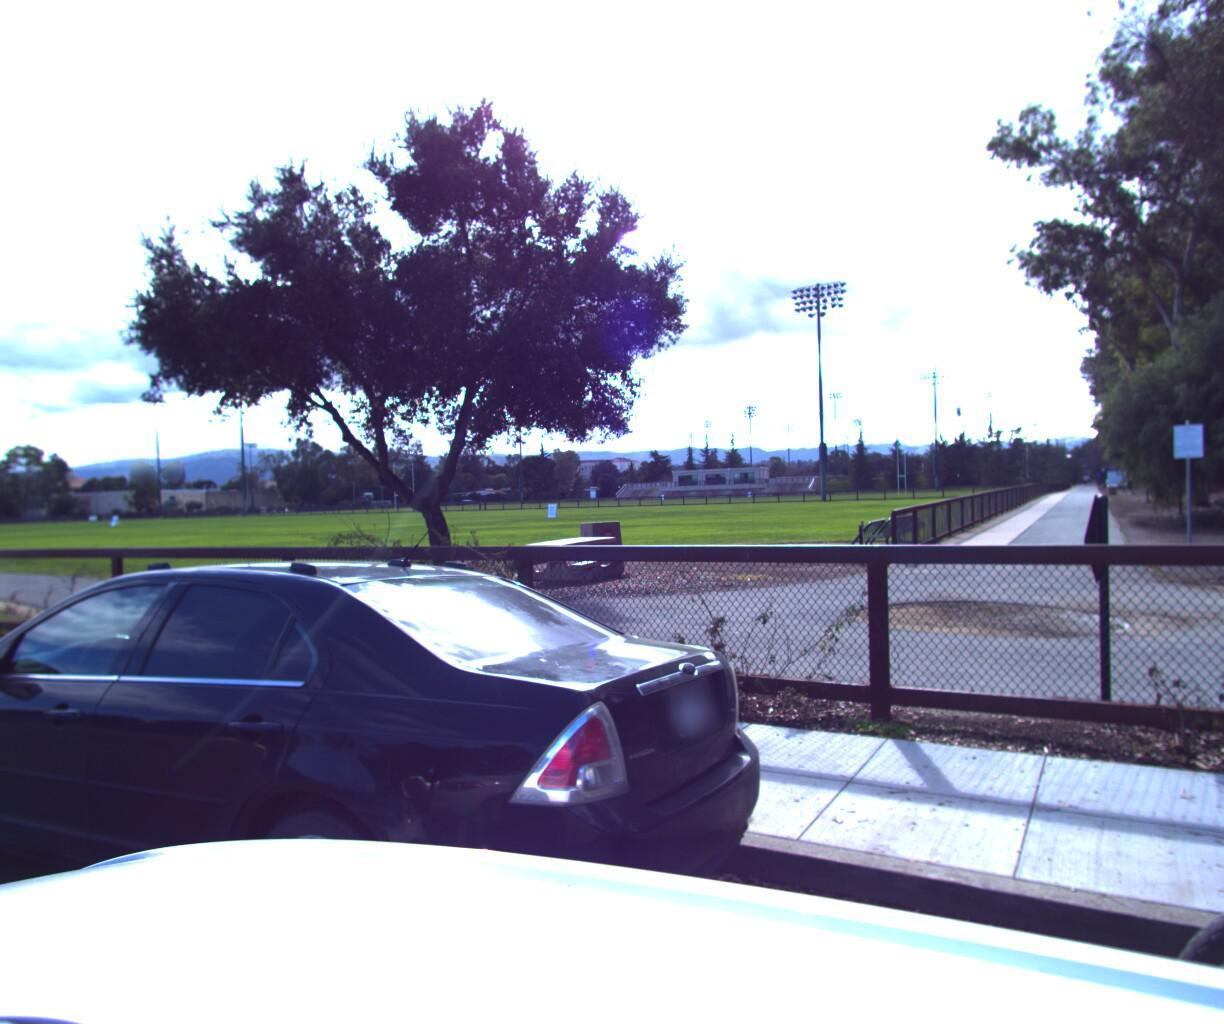car: (0, 530, 803, 1024)
motorcycle: (1161, 540, 1224, 1024)
